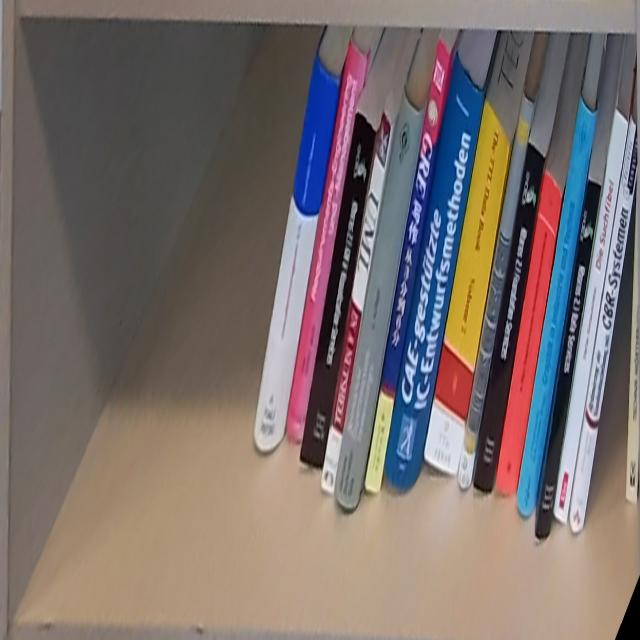Book Spine: (386, 56, 484, 488), (333, 89, 428, 507), (366, 40, 451, 493), (515, 94, 599, 516), (253, 51, 341, 451), (286, 38, 367, 443), (425, 101, 512, 478), (554, 109, 629, 527), (458, 93, 535, 492), (568, 117, 638, 534), (301, 109, 379, 468), (321, 113, 394, 494), (475, 141, 545, 494), (535, 178, 601, 541), (497, 170, 563, 497)
